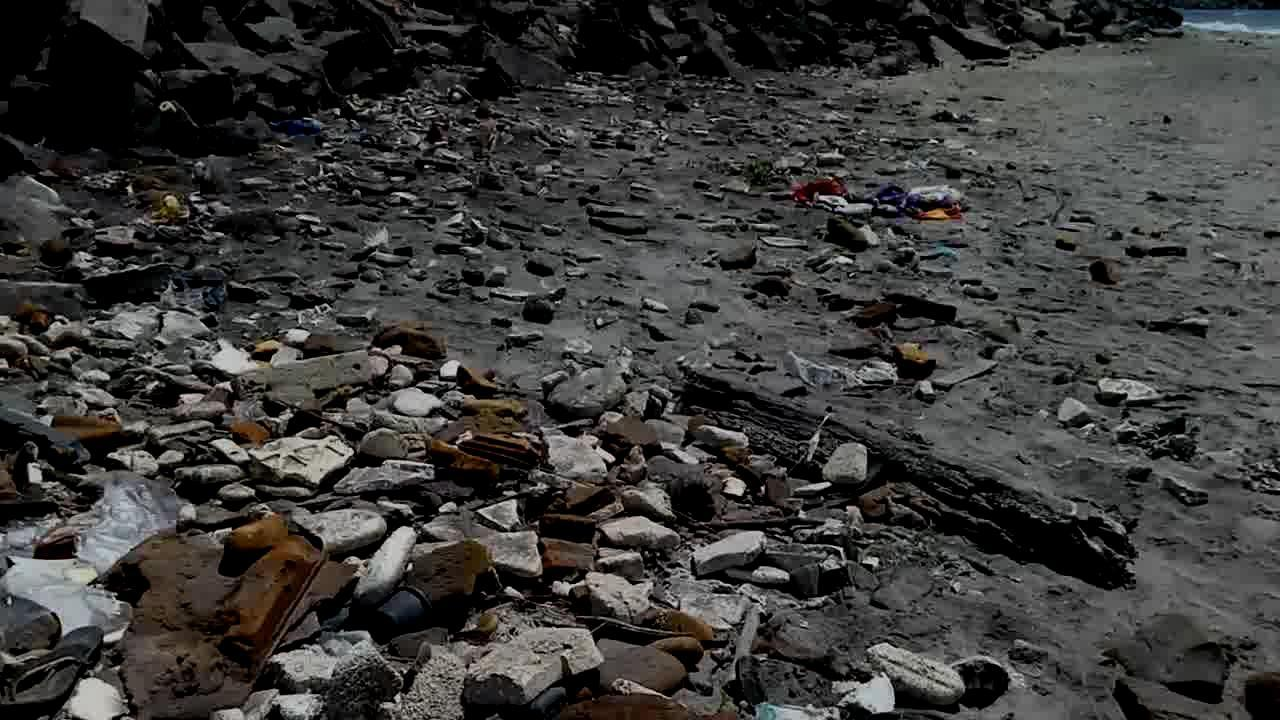large collection of objects: (1, 194, 225, 382), (303, 96, 555, 251), (585, 218, 648, 236), (720, 246, 754, 268)
obj: (1, 323, 933, 719), (676, 369, 1140, 590), (209, 618, 755, 719), (747, 648, 1023, 719), (0, 623, 100, 714), (795, 182, 974, 221), (408, 540, 488, 616), (1, 593, 62, 659), (370, 588, 431, 643), (540, 514, 595, 570), (50, 412, 121, 454), (1089, 377, 1163, 402), (1245, 669, 1279, 720), (736, 153, 776, 189), (656, 616, 712, 640), (450, 454, 494, 483), (895, 342, 929, 377), (1131, 237, 1187, 257), (1092, 258, 1134, 284)
sand/background: (1, 0, 1279, 179)
